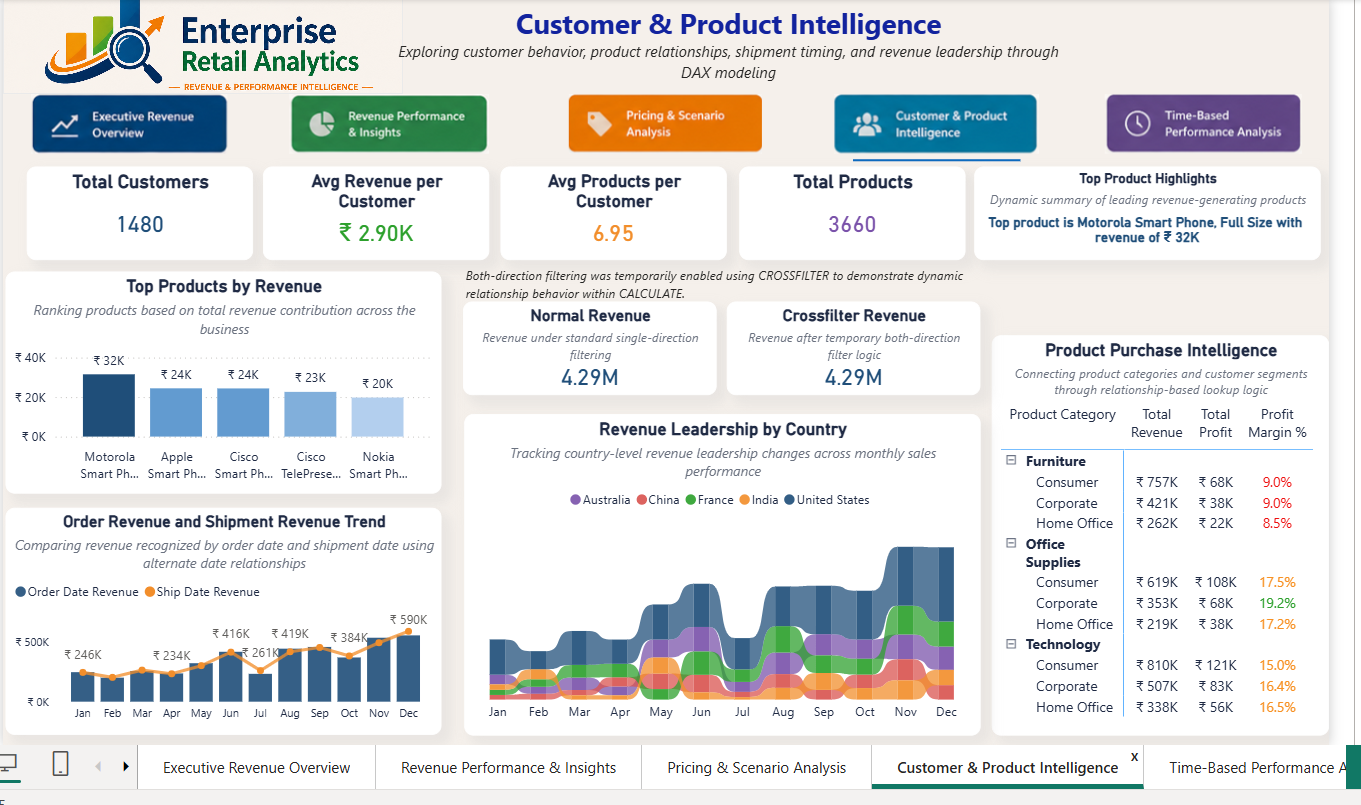

The page's visual inventory and layout, read from the dashboard file:
{"tool":"powerbi","page":{"name":"Customer & Product Intelligence","canvas":[1280,720],"ordinal":3},"visuals":[{"type":"image","box":[0,0,386.1,91.7],"z":0},{"type":"textbox","box":[360.7,0,679.2,102.5],"z":1000},{"type":"image","box":[22.9,91.7,197.9,57.9],"z":2000},{"type":"image","box":[273.9,91.7,197.9,57.9],"z":3000},{"type":"image","box":[540.5,91.7,197.9,57.9],"z":4000},{"type":"image","box":[802.3,91.7,197.9,57.9],"z":5000},{"type":"image","box":[1059.3,91.7,197.9,57.9],"z":6000},{"type":"shape","box":[820.4,149.6,161.7,12.1],"z":7000},{"type":"card","title":"Total Customers","fields":{"Values":["All Measures Table.Total Customers"]},"box":[22.9,161.7,218.4,90.5],"z":7001},{"type":"card","title":"Avg Revenue per Customer","fields":{"Values":["All Measures Table.Avg Revenue per Customer"]},"box":[250.9,161.7,218.4,90.5],"z":7002},{"type":"card","title":"Avg Products per Customer","fields":{"Values":["All Measures Table.Avg Products per Customer"]},"box":[480.2,161.7,218.4,90.5],"z":7003},{"type":"card","title":"Total Products","fields":{"Values":["All Measures Table.Total Products"]},"box":[710.6,161.7,218.4,90.5],"z":7004},{"type":"clusteredColumnChart","title":"Top Products by Revenue","fields":{"Category":["dim_product.Short Product Name"],"Y":["All Measures Table.Total Revenue"]},"box":[2.4,263,421,214.7],"z":7005},{"type":"card","title":"Top Product Highlights","fields":{"Values":["All Measures Table.Top Products Insight"]},"box":[937.4,161.7,334.2,90.5],"z":7007},{"type":"lineClusteredColumnComboChart","title":"Order Revenue and Shipment Revenue Trend","fields":{"Category":["dim_date.Month"],"Y":["All Measures Table.Order Date Revenue"],"Y2":["All Measures Table.Ship Date Revenue"]},"box":[2.4,491,421,219.6],"z":7008},{"type":"pivotTable","title":"Product Purchase Intelligence","fields":{"Rows":["fact_sales.Product Category","fact_sales.Customer Segment"],"Values":["All Measures Table.Total Revenue","All Measures Table.Total Profit","Scenario Table.Profit Margin 1 %"]},"box":[954.3,324.5,325.7,386.1],"z":7010},{"type":"card","title":"Normal Revenue","fields":{"Values":["All Measures Table.Revenue Normal Filter"]},"box":[444,292,244.9,90.5],"z":7012},{"type":"card","title":"Crossfilter Revenue","fields":{"Values":["All Measures Table.Revenue With Crossfilter"]},"box":[698.5,292,244.9,90.5],"z":7013},{"type":"textbox","box":[441.6,252.1,493.4,47.1],"z":7014},{"type":"ribbonChart","title":"Revenue Leadership by Country","fields":{"Category":["dim_date.Month"],"Series":["dim_customer.Country"],"Y":["All Measures Table.Total Revenue"]},"box":[445.2,400.5,498.3,310.1],"z":7015},{"type":"actionButton","box":[275.1,91.7,196.6,57.9],"z":7016},{"type":"actionButton","box":[24.1,91.7,196.6,57.9],"z":7017},{"type":"actionButton","box":[541.7,91.7,196.6,57.9],"z":7018},{"type":"actionButton","box":[1059.3,91.7,196.6,57.9],"z":7019}]}

Visuals, with their boxes on the page's 1280x720 design canvas (x1, y1, x2, y2). These are canvas units, not pixel positions in the 1361x805 screenshot, which may show the page scaled, cropped or inside an application window:
image: (0,0,386,92)
textbox: (361,0,1040,102)
image: (23,92,221,150)
image: (274,92,472,150)
image: (540,92,738,150)
image: (802,92,1000,150)
image: (1059,92,1257,150)
shape: (820,150,982,162)
"Total Customers" card: (23,162,241,252)
"Avg Revenue per Customer" card: (251,162,469,252)
"Avg Products per Customer" card: (480,162,699,252)
"Total Products" card: (711,162,929,252)
"Top Products by Revenue" clusteredColumnChart: (2,263,423,478)
"Top Product Highlights" card: (937,162,1272,252)
"Order Revenue and Shipment Revenue Trend" lineClusteredColumnComboChart: (2,491,423,711)
"Product Purchase Intelligence" pivotTable: (954,324,1280,711)
"Normal Revenue" card: (444,292,689,382)
"Crossfilter Revenue" card: (698,292,943,382)
textbox: (442,252,935,299)
"Revenue Leadership by Country" ribbonChart: (445,400,944,711)
actionButton: (275,92,472,150)
actionButton: (24,92,221,150)
actionButton: (542,92,738,150)
actionButton: (1059,92,1256,150)
